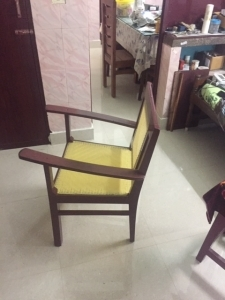chair: (17, 82, 160, 247)
